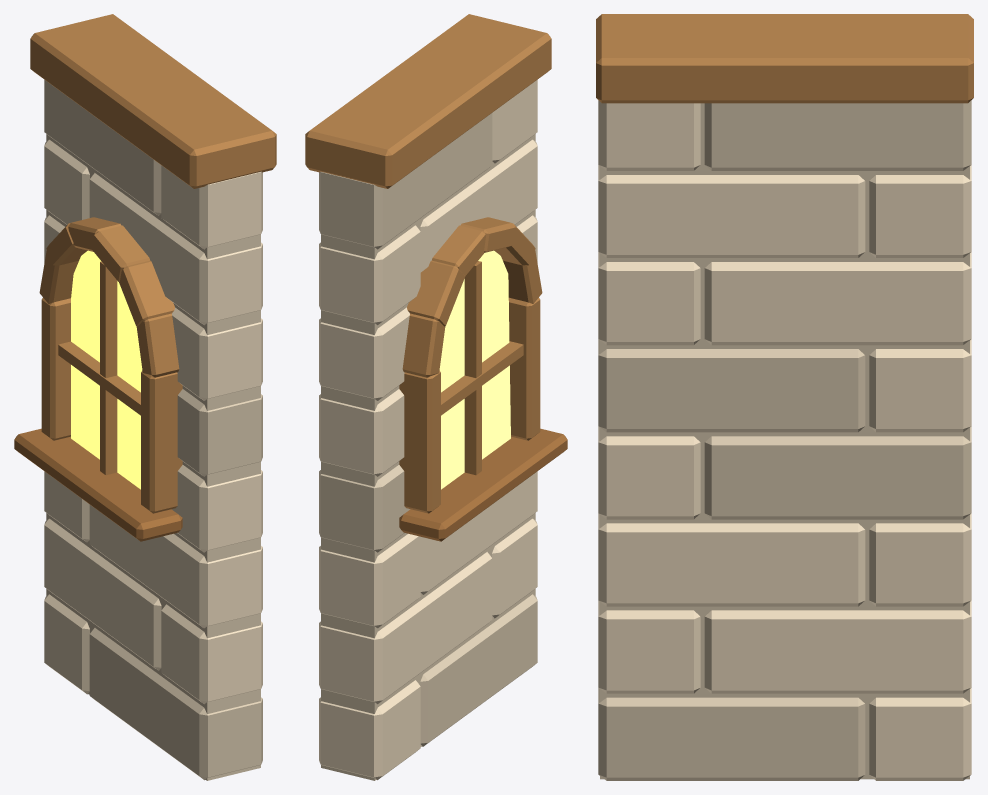
The model's file is mod_wall_curved_r2.42_n16_window.glb.
The picture shows the model from 3 angles, left to right: view 1: azimuth 30°, elevation 25°; view 2: azimuth 150°, elevation 25°; view 3: azimuth 270°, elevation 25°; orthographic projection. The views are drawn at different scales.
Parts seen in each view (by area): view 1: mod_wall_curved_r2.42_n16_window; view 2: mod_wall_curved_r2.42_n16_window; view 3: mod_wall_curved_r2.42_n16_window.
Part boxes in pixels (<box>): mod_wall_curved_r2.42_n16_window: <box>14,14,276,780</box>; mod_wall_curved_r2.42_n16_window: <box>305,14,567,780</box>; mod_wall_curved_r2.42_n16_window: <box>596,14,973,780</box>.
Bounding box in the file's own units: 0.42 × 2.09 × 0.9827.
